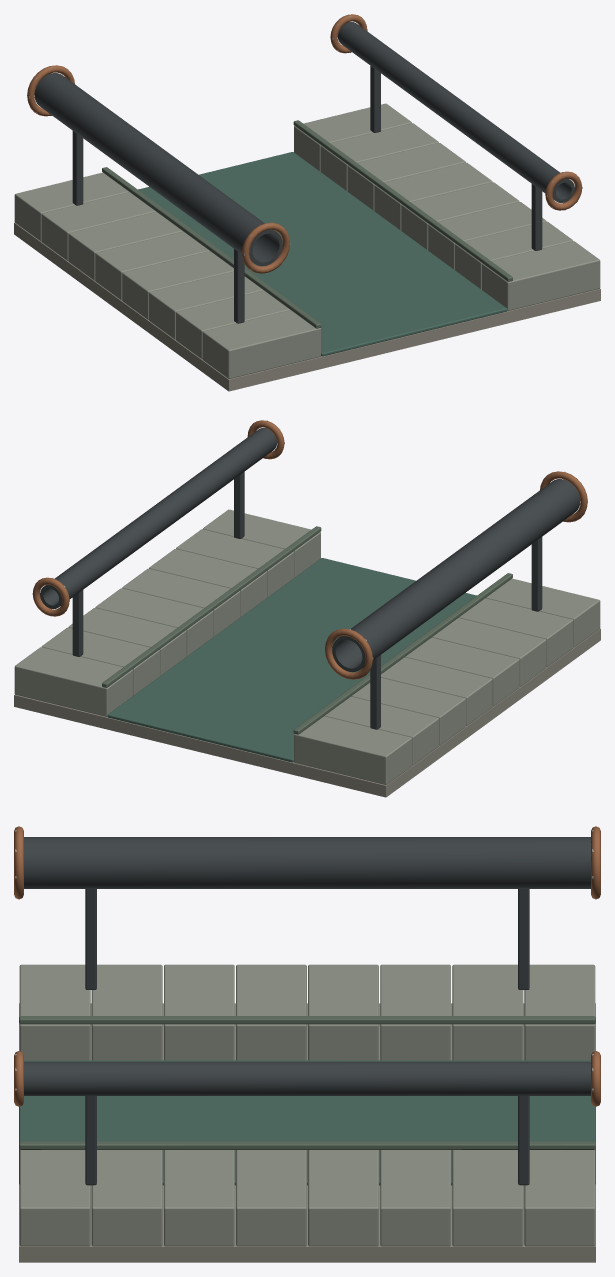
Rendered from undercity-sewers-and-thieves-den-pipe-gallery-ec2513ff__25023.glb.
3 views of the same model, one above another, from view 1: azimuth 30°, elevation 25°; view 2: azimuth 150°, elevation 25°; view 3: azimuth 270°, elevation 25° (orthographic). The views are drawn at different scales.
Parts seen in each view (by area): view 1: pipe-gallery; view 2: pipe-gallery; view 3: pipe-gallery.
Part boxes in pixels (x1=…): pipe-gallery: x1=14, y1=14, x2=600, y2=391; pipe-gallery: x1=14, y1=420, x2=600, y2=797; pipe-gallery: x1=14, y1=826, x2=600, y2=1262.
Bounding box in the file's own units: 4 × 1.64 × 4.07.
